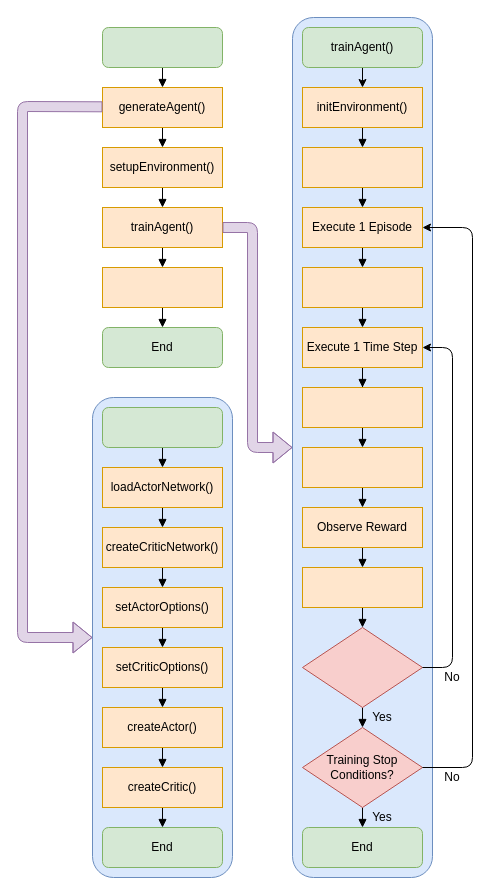
The diagram is 498 pixels wide and 895 high, and some of its shapes have lost their labels. Here are the shapes that lost their labels. From the top down, the box of each, then its label:
(102, 26, 222, 68): createRobotAgent()
(302, 146, 422, 188): RLTraining()
(102, 266, 222, 308): saveResults()
(302, 266, 422, 308): reset()
(102, 406, 222, 448): generateActor()
(302, 386, 422, 428): Observe State
(302, 446, 422, 488): Execute Action
(302, 566, 422, 608): Update Weights & Biases
(302, 626, 422, 708): Episode Stop Conditions?
